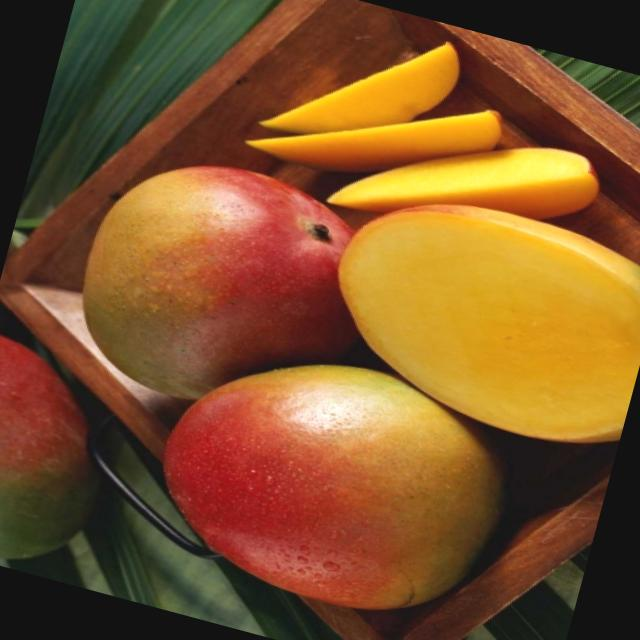mango: (130, 322, 518, 640), (62, 138, 389, 434)
